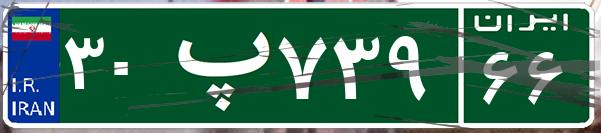0: (110, 28, 158, 105)
3: (330, 28, 385, 110), (57, 26, 110, 107)
6: (475, 38, 525, 113), (525, 38, 570, 115)
7: (273, 28, 330, 110)
9: (385, 28, 445, 110)
پ: (158, 15, 273, 115)
